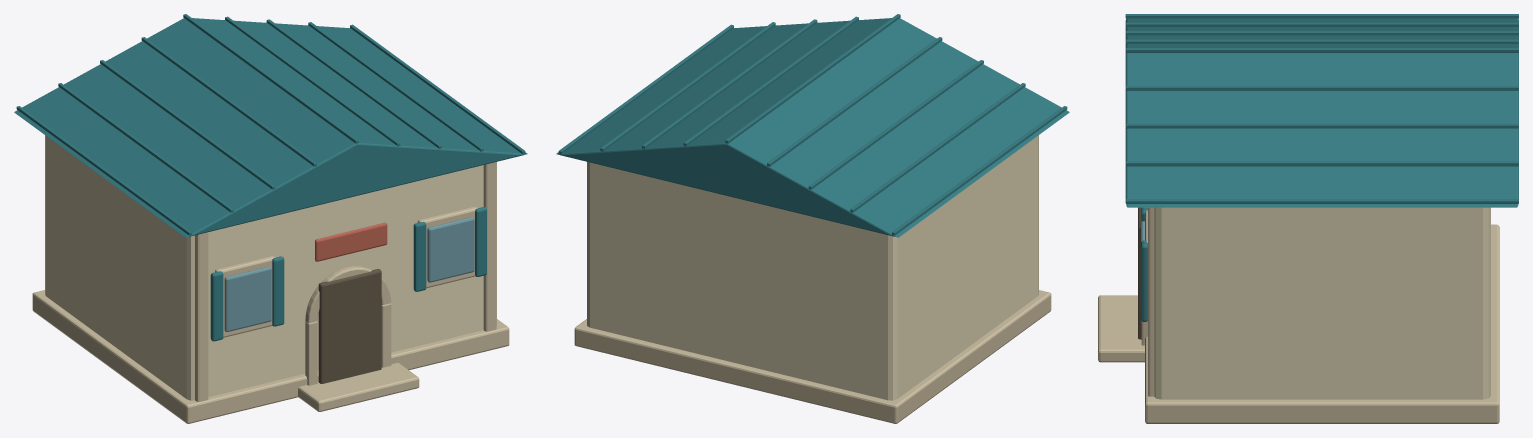
The model's file is center.glb.
3 views of the same model, side by side, from view 1: azimuth 30°, elevation 25°; view 2: azimuth 150°, elevation 25°; view 3: azimuth 270°, elevation 25° (orthographic). The views are drawn at different scales.
Parts seen in each view (by area): view 1: Geometry_TealTile, Geometry_Stucco, Geometry_Sandstone, Geometry_Timber, Geometry_Window, Geometry_Red; view 2: Geometry_Stucco, Geometry_TealTile, Geometry_Sandstone; view 3: Geometry_TealTile, Geometry_Stucco, Geometry_Sandstone, Geometry_Timber.
Boxes of the visible parts, x1,y1,x2,y2 form: Geometry_TealTile: [14, 14, 527, 341]; Geometry_Stucco: [45, 135, 496, 400]; Geometry_Sandstone: [32, 162, 509, 423]; Geometry_Timber: [318, 269, 381, 383]; Geometry_Window: [224, 217, 474, 331]; Geometry_Red: [315, 222, 387, 261]; Geometry_Stucco: [587, 135, 1038, 400]; Geometry_TealTile: [556, 14, 1069, 237]; Geometry_Sandstone: [574, 290, 1051, 423]; Geometry_TealTile: [1125, 14, 1518, 321]; Geometry_Stucco: [1154, 207, 1490, 399]; Geometry_Sandstone: [1098, 207, 1499, 423]; Geometry_Timber: [1138, 207, 1141, 339].
Bounding box in the file's own units: 6.42 × 4.5 × 5.99.
